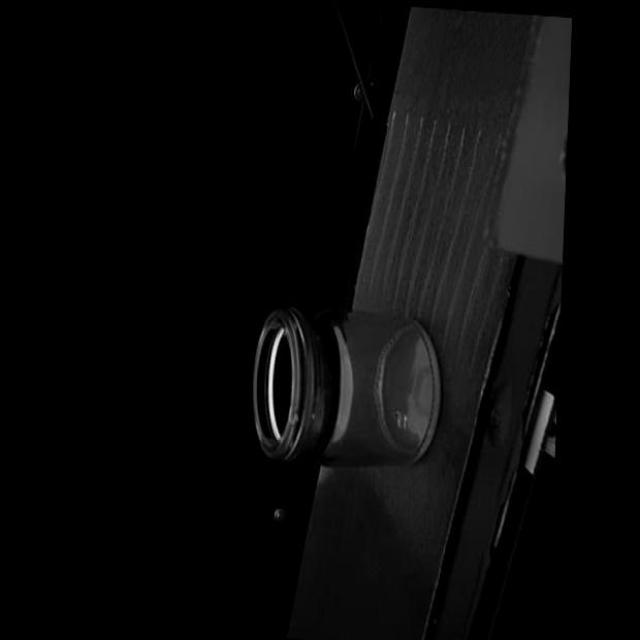defect: (287, 404, 301, 426), (312, 410, 316, 416)
glass: (249, 299, 444, 473)
